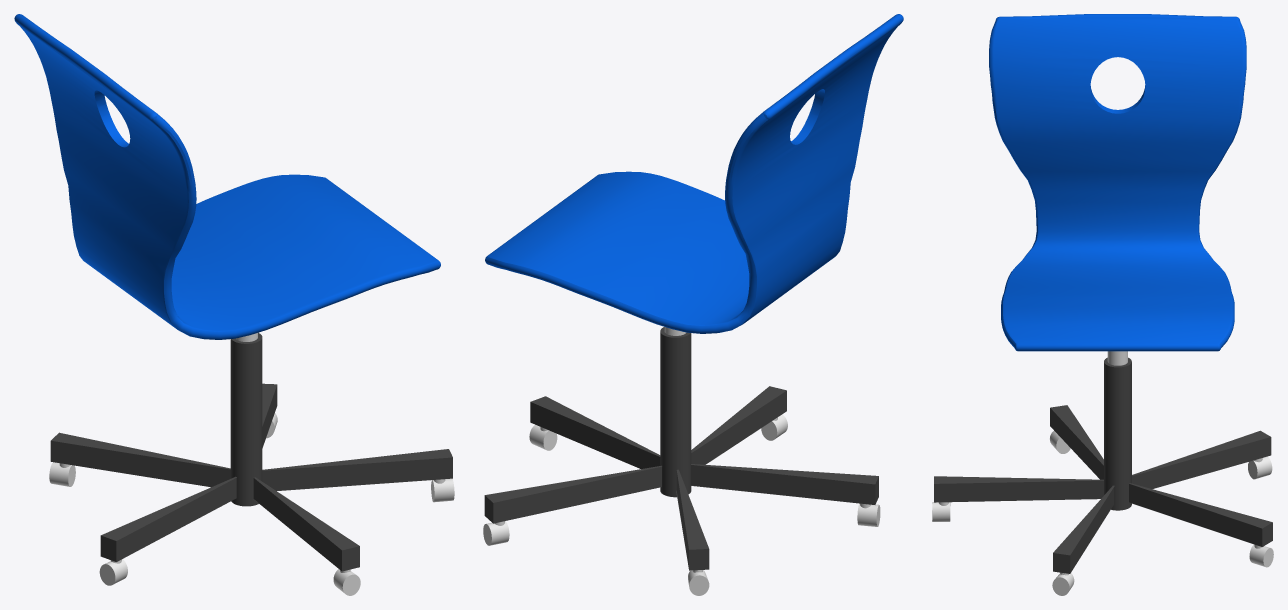
Rendered from RollStuhl.glb.
3 renders of one model, left to right at view 1: azimuth 30°, elevation 25°; view 2: azimuth 150°, elevation 25°; view 3: azimuth 270°, elevation 25°, orthographic. The views are drawn at different scales.
Parts seen in each view (by area): view 1: Cube; view 2: Cube; view 3: Cube.
Part boxes in pixels (bbox=[...]): Cube: bbox=[14, 14, 454, 595]; Cube: bbox=[483, 14, 903, 595]; Cube: bbox=[932, 14, 1273, 595].
Bounding box in the file's own units: 0.5414 × 0.7293 × 0.5163.
